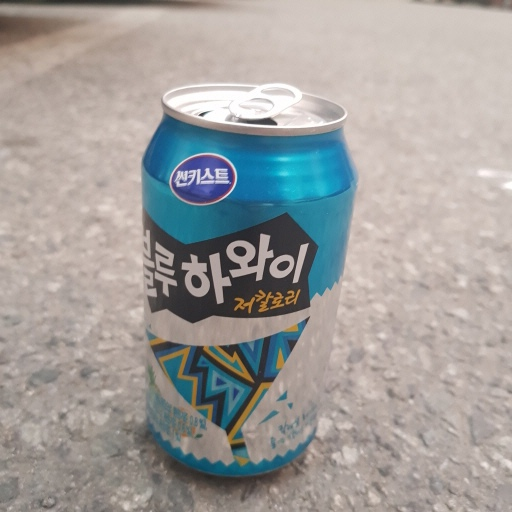Metal_0: (138, 81, 357, 481)
